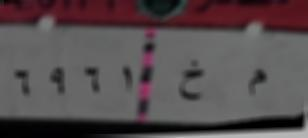1: (117, 63, 138, 94)
6: (11, 64, 34, 100), (81, 65, 105, 97)
9: (42, 61, 72, 98)
khaa: (174, 54, 212, 103)
meem: (238, 58, 274, 103)
